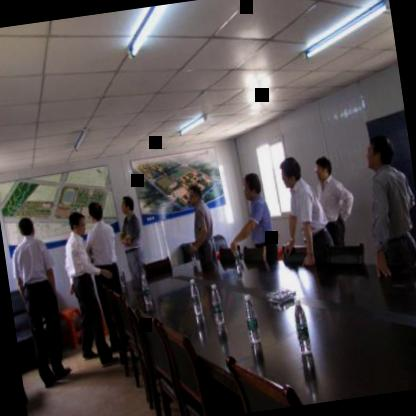head: (363, 128, 398, 170), (277, 154, 304, 192), (238, 168, 266, 204), (14, 213, 38, 243), (310, 153, 333, 183), (66, 208, 88, 238), (86, 198, 105, 226), (187, 182, 204, 206), (118, 194, 135, 218)
